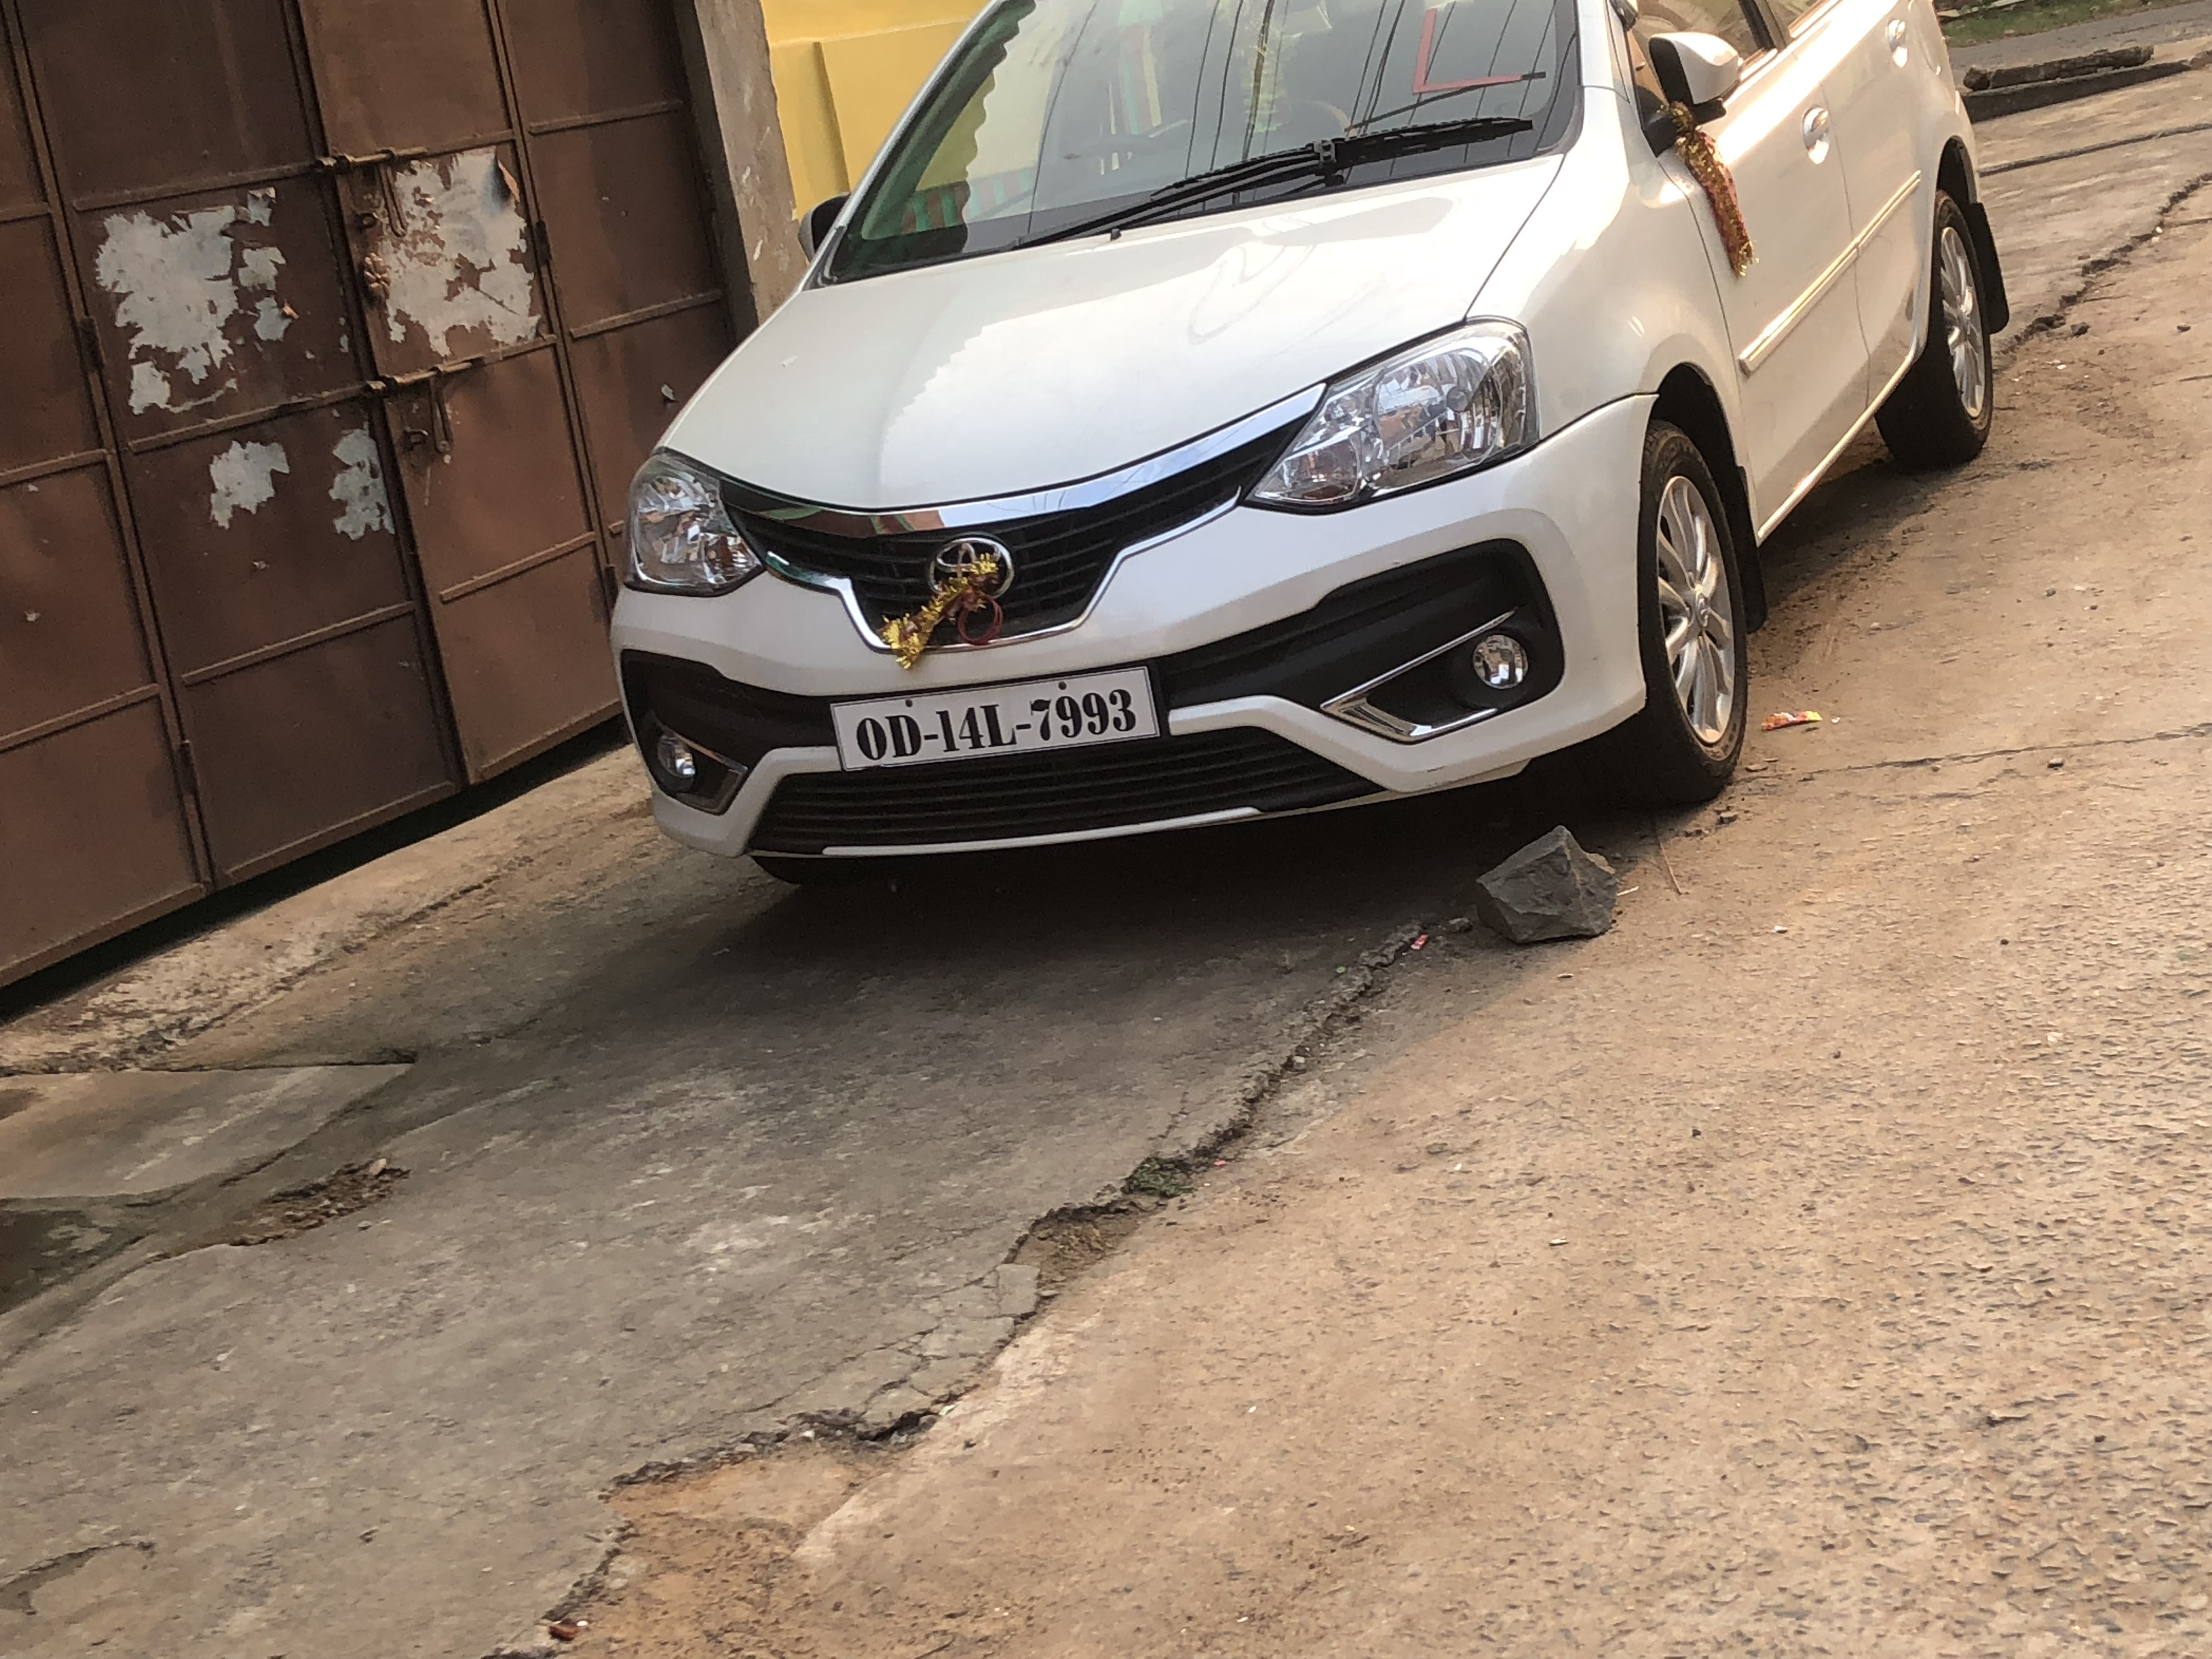licenseplate: (814, 665, 1175, 775)
